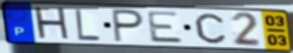2: (230, 11, 263, 48)
C: (193, 12, 228, 45)
E: (145, 10, 186, 44)
H: (32, 6, 73, 43)
L: (73, 7, 103, 42)
P: (111, 8, 146, 44)
